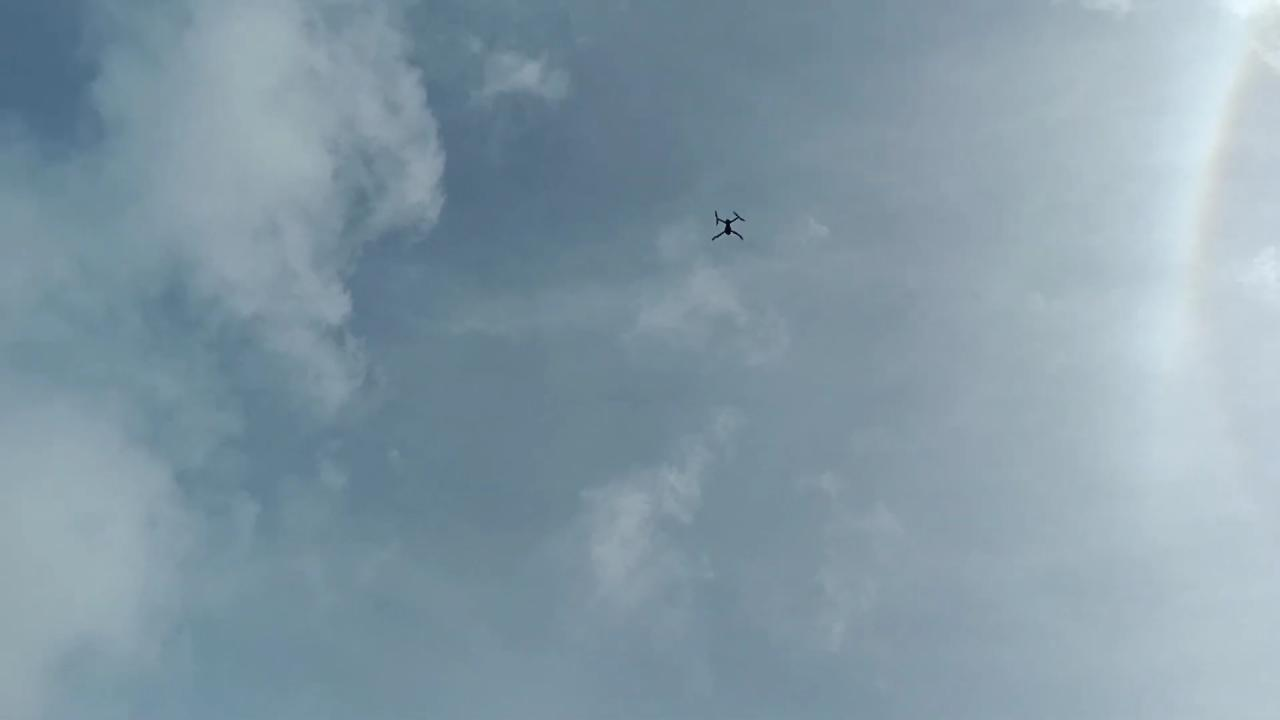Drone: (701, 203, 754, 251)
